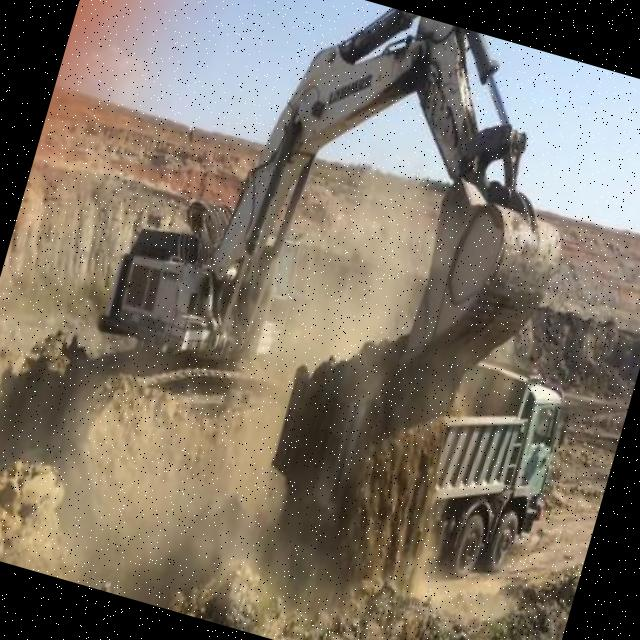Dump Truck: (247, 296, 586, 599)
Excavator: (61, 0, 616, 495)
